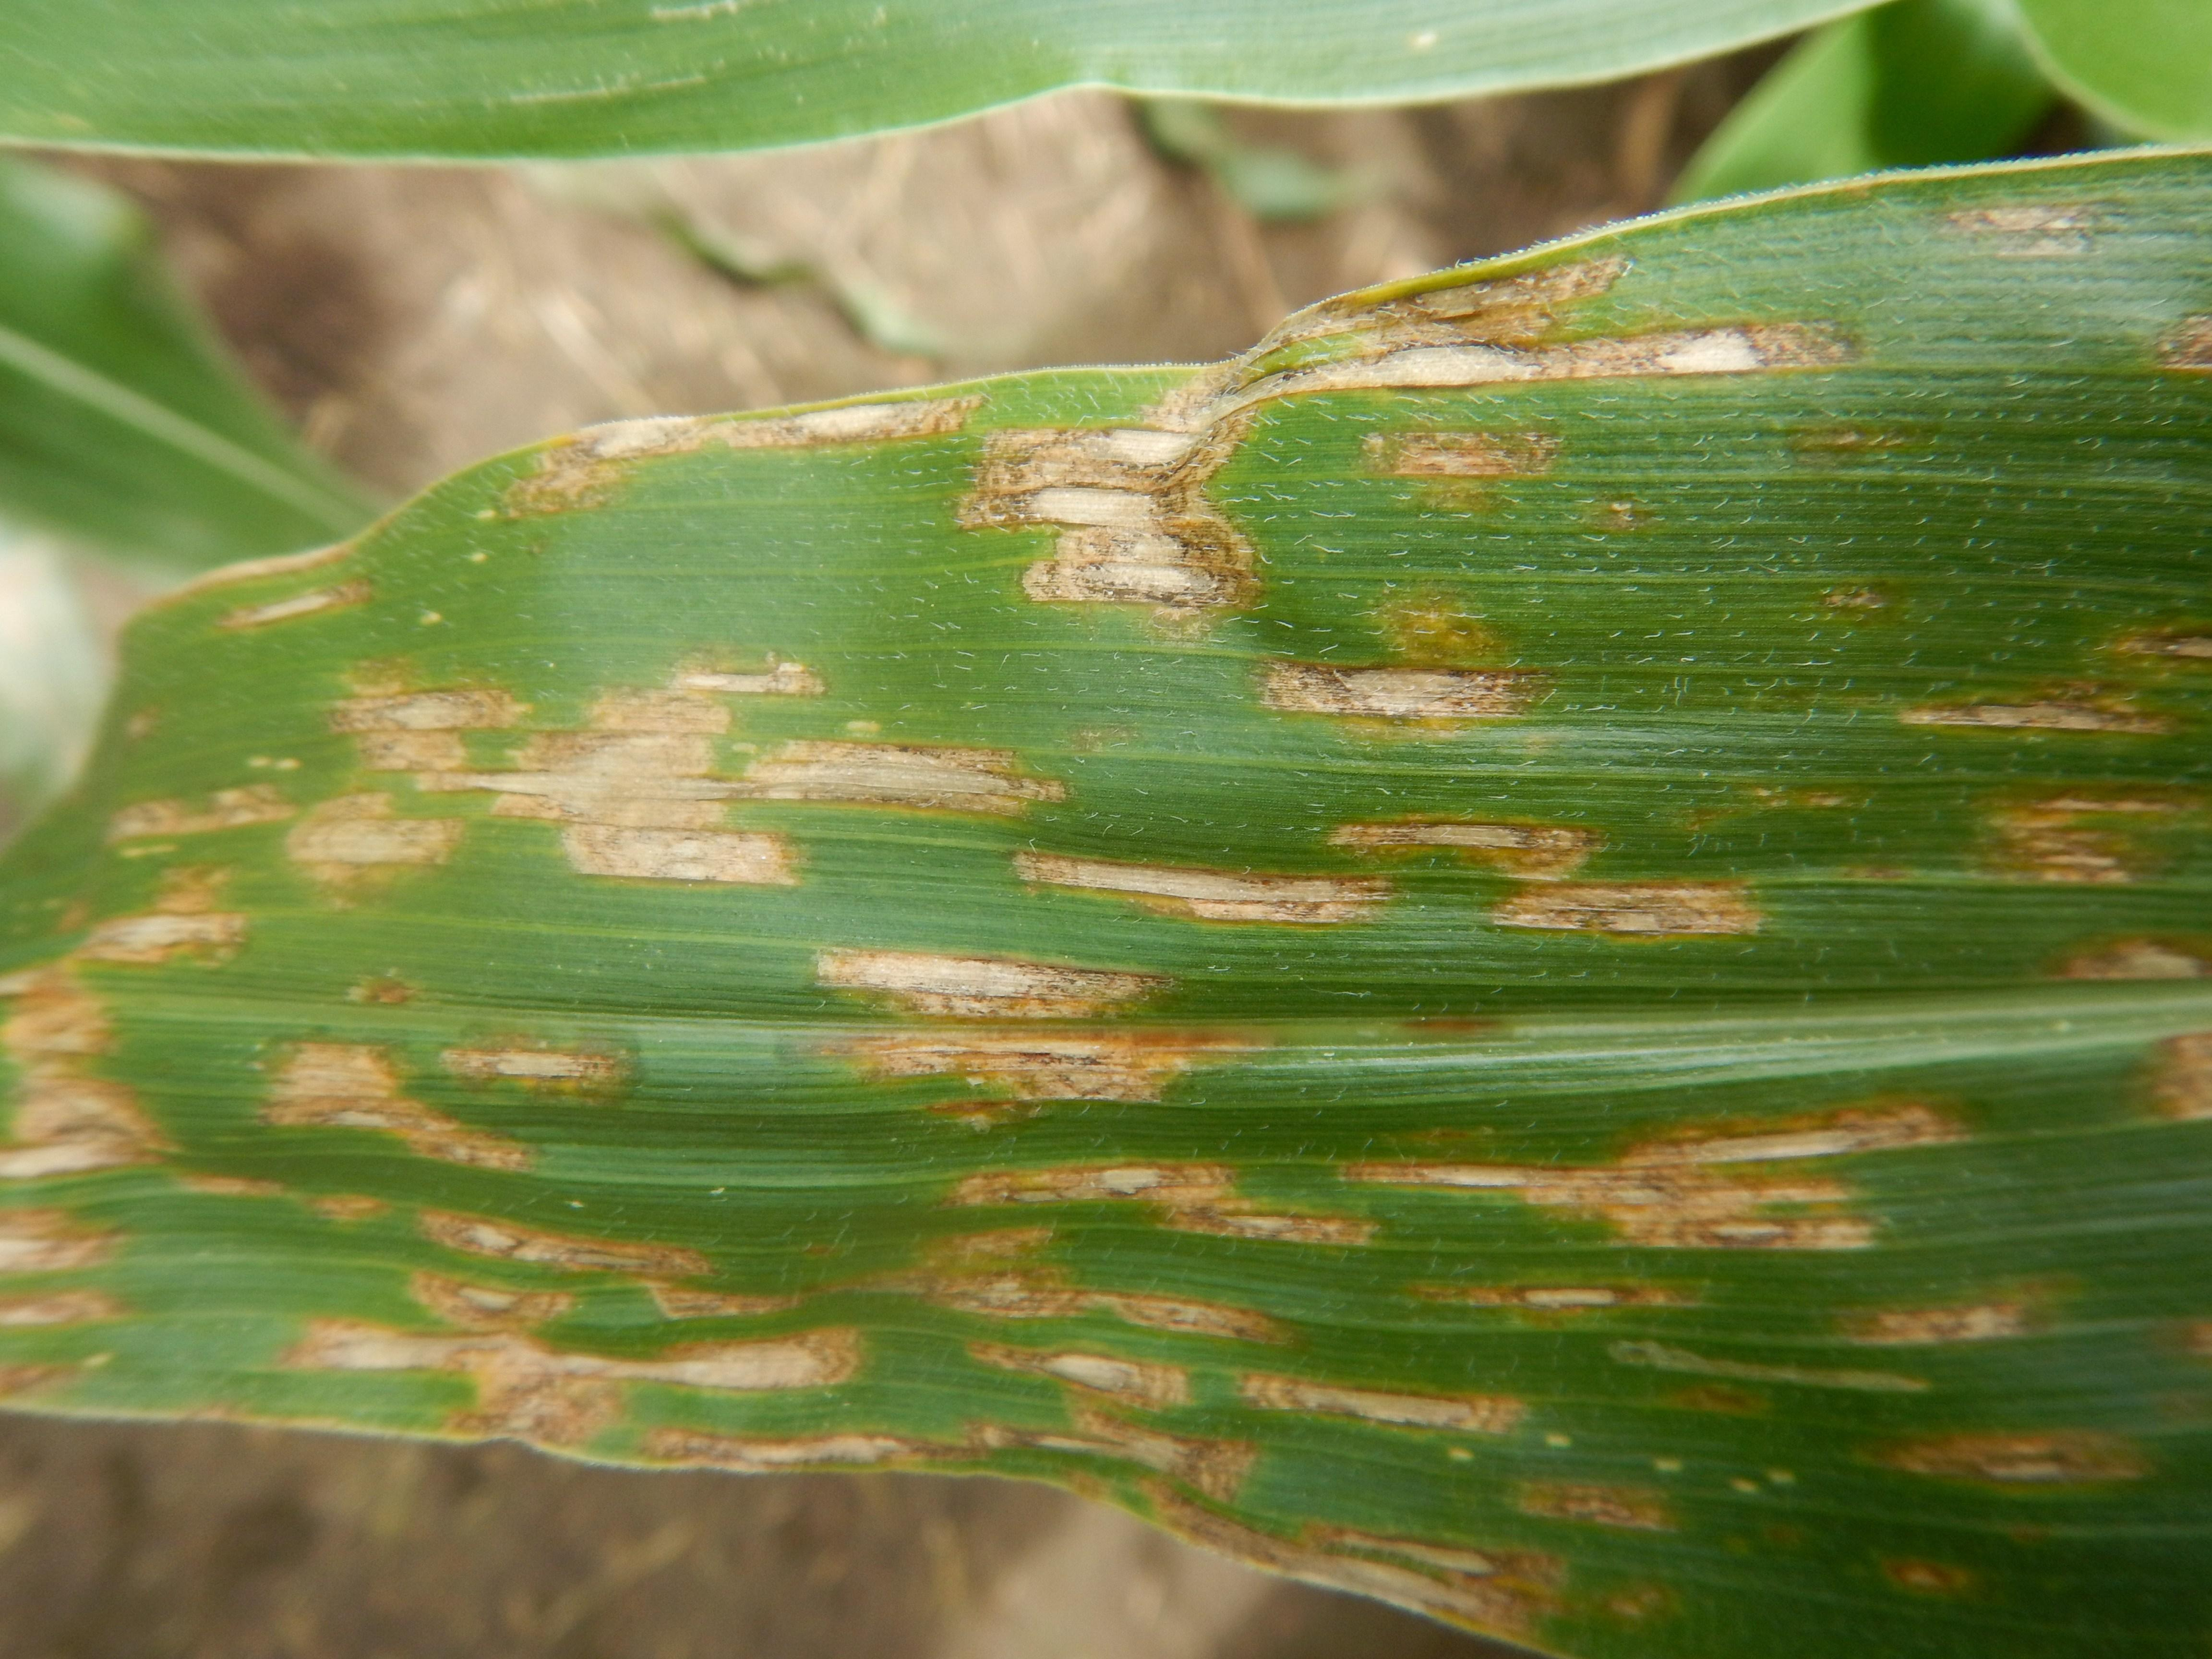Corn leaf blight: (19, 258, 2212, 1581)
